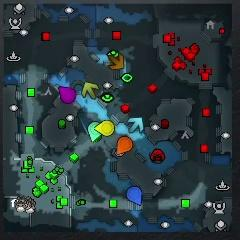p1: (126, 187, 142, 206)
p2: (88, 122, 102, 142)
p3: (58, 86, 76, 103)
p4: (93, 120, 115, 136)
p5: (118, 135, 133, 154)
x2: (82, 82, 99, 98)
x3: (128, 117, 143, 133)
x5: (108, 53, 124, 69)
